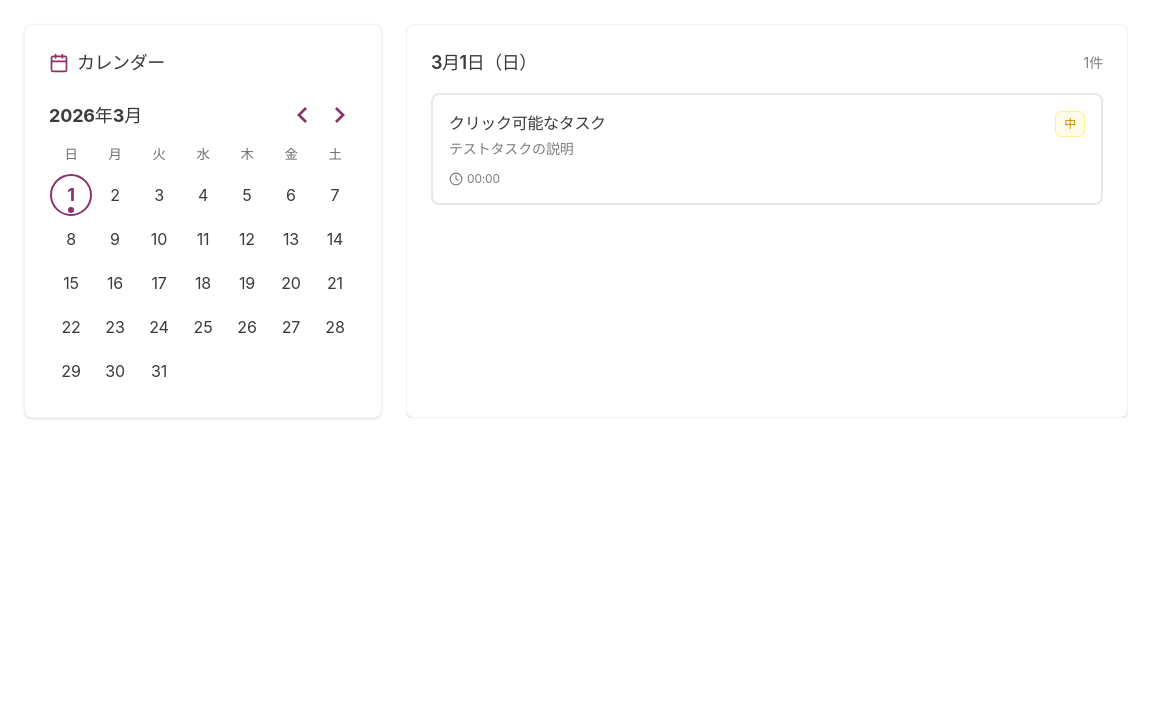
CalendarView › タスククリック › タスクをクリックでEditTaskDialogが開く
This screenshot has width=1152, height=720.
Step 1. Click the heading "クリック可能なタスク" → [527, 123], box [449,113,606,133]
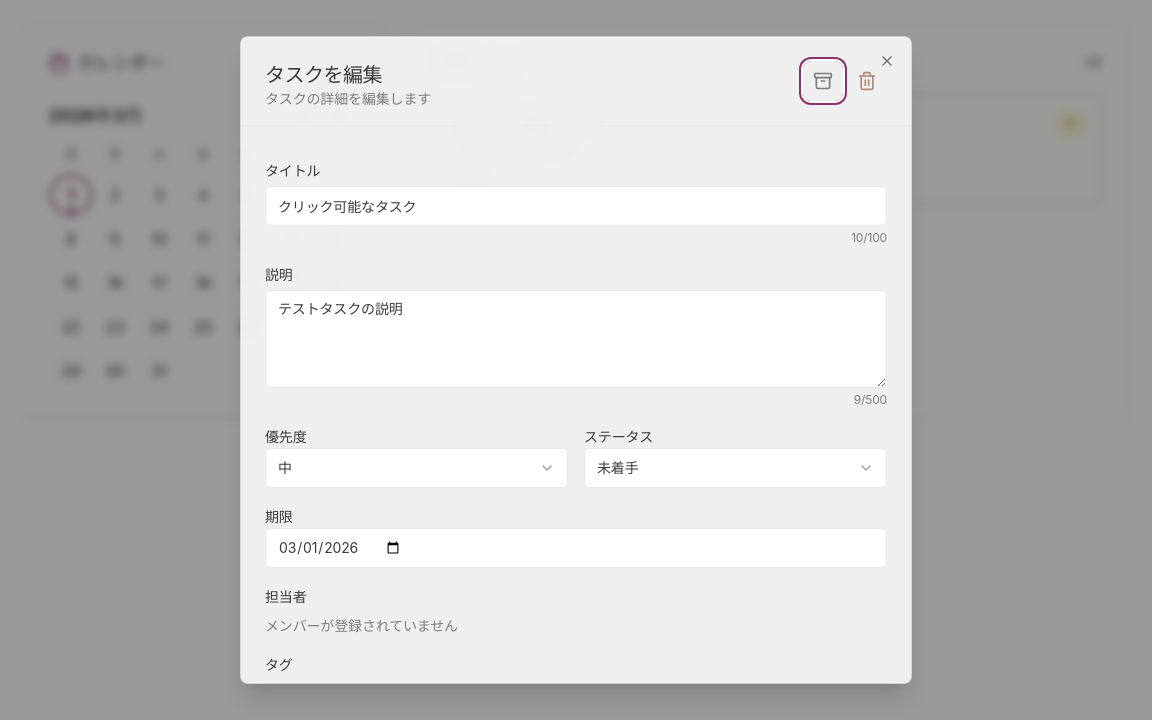
expect the heading "タスクを編集" is shown: met, box [265,63,382,87]
